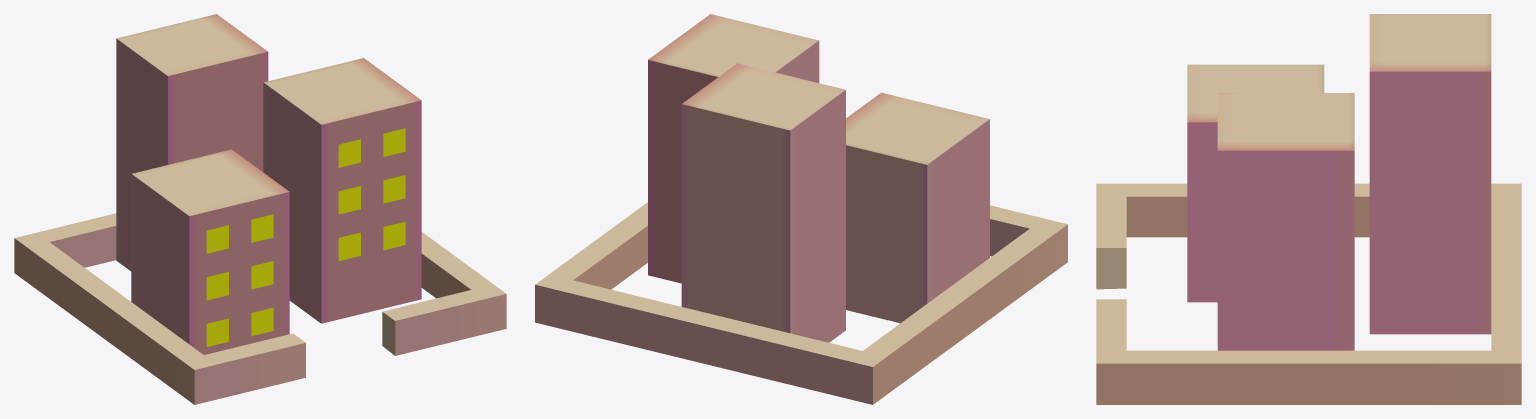
Rendered from City.WhiteNova.glb.
3 renders of one model, left to right at view 1: azimuth 30°, elevation 25°; view 2: azimuth 150°, elevation 25°; view 3: azimuth 270°, elevation 25°, orthographic. The views are drawn at different scales.
Visible parts, largest first — view 1: City.WhiteNova; view 2: City.WhiteNova; view 3: City.WhiteNova.
Part boxes in pixels (x1,y1,x2,y2): City.WhiteNova: (14,14,506,404); City.WhiteNova: (535,14,1067,404); City.WhiteNova: (1096,14,1521,404).
Bounding box in the file's own units: 2.8 × 1.91 × 2.8.
2 materials, 1 textured.
